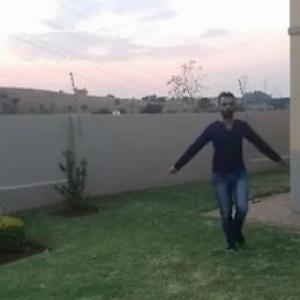land: (166, 94, 278, 236)
